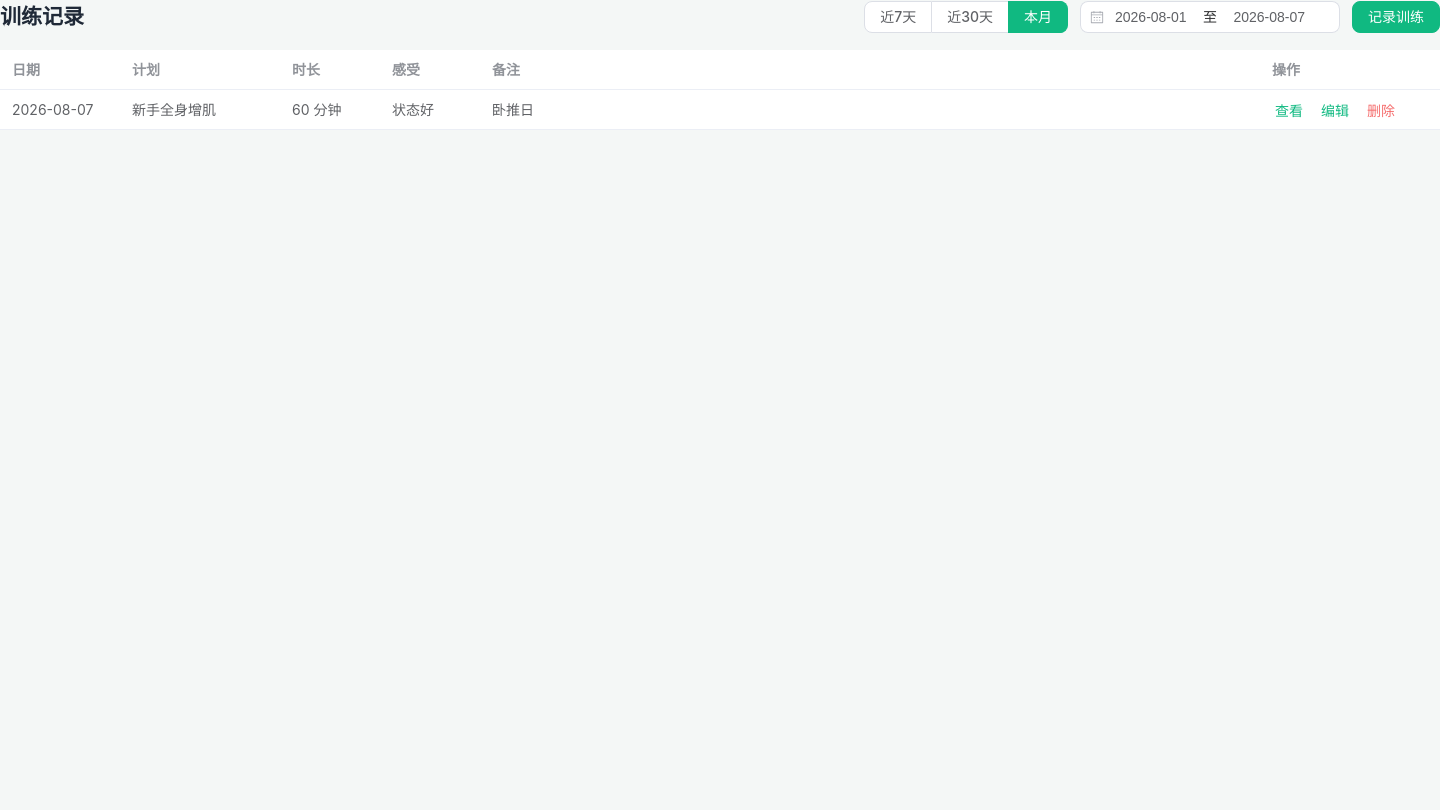
Test case: TrainingView › opens create dialog when clicking 记录训练
Click the button "记录训练": (1396, 17) [1352,1,1439,33]
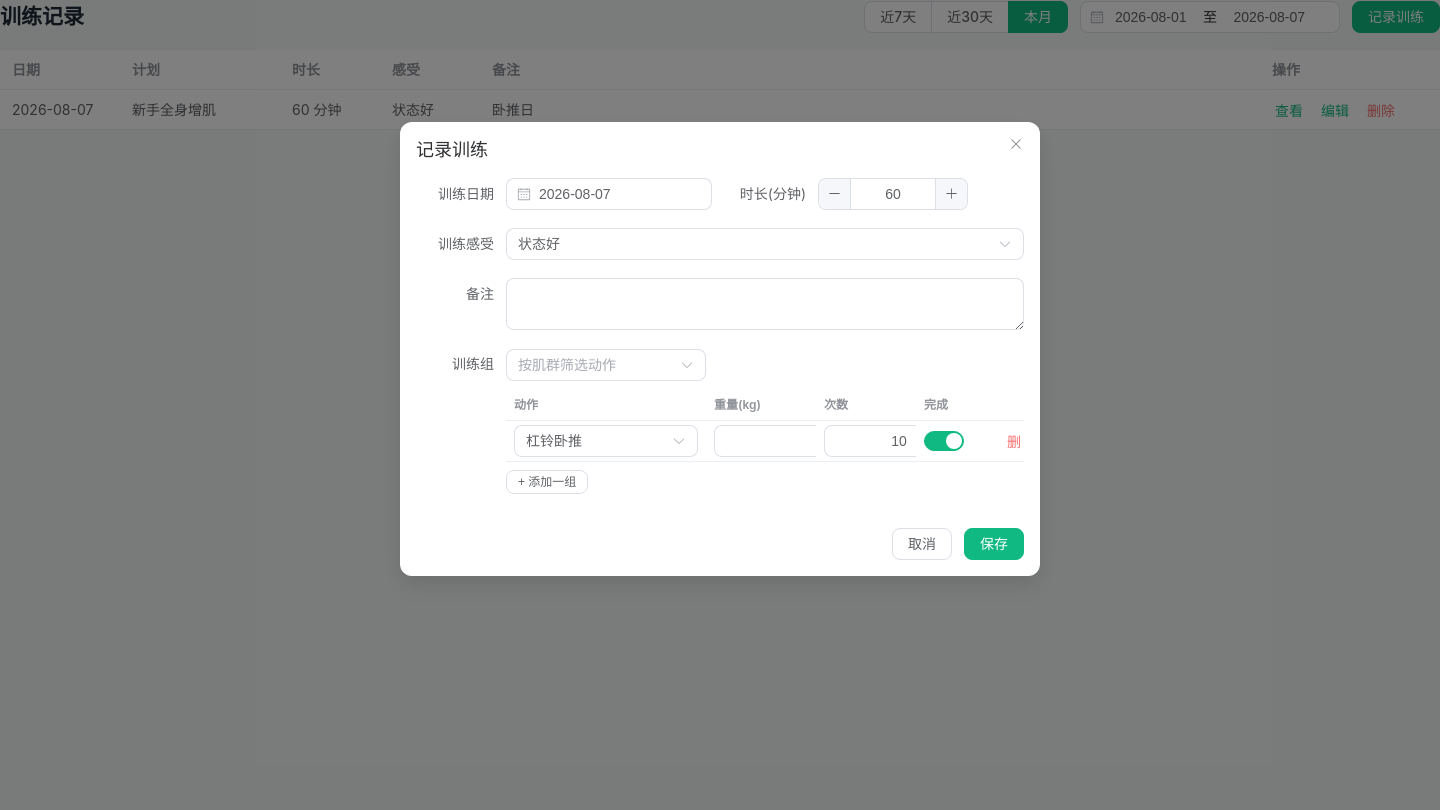
Check: the text "记录训练" is shown, box [1368,10,1424,24]
Check: the text "训练组" is shown, box [452,355,494,372]
Check: the text "保存" is shown, box [980,537,1008,551]
